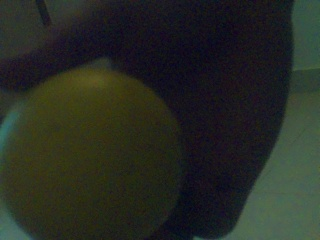ball: (0, 68, 183, 239)
